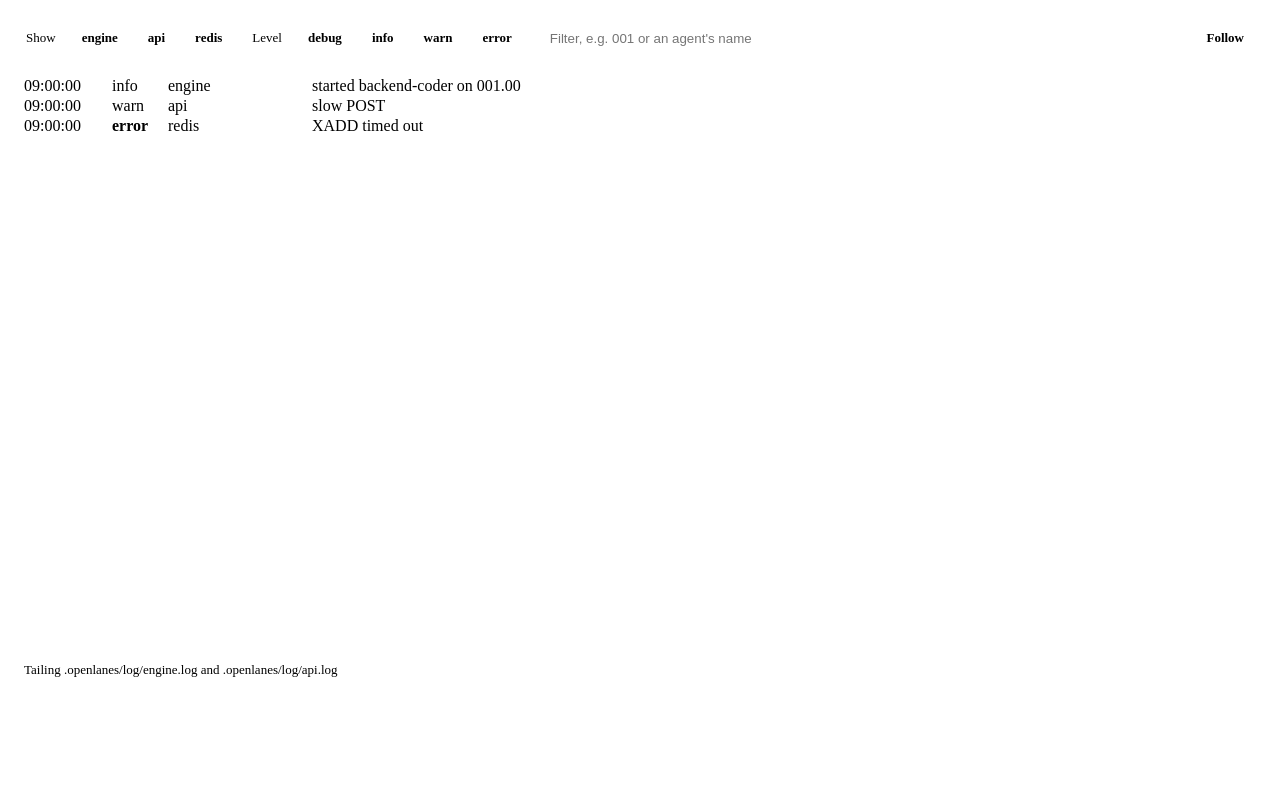
Test case: filters by source, level and text
The width and height of the screenshot is (1280, 800).
Click the button "api".
click(156, 38)  # box [136,20,177,56]
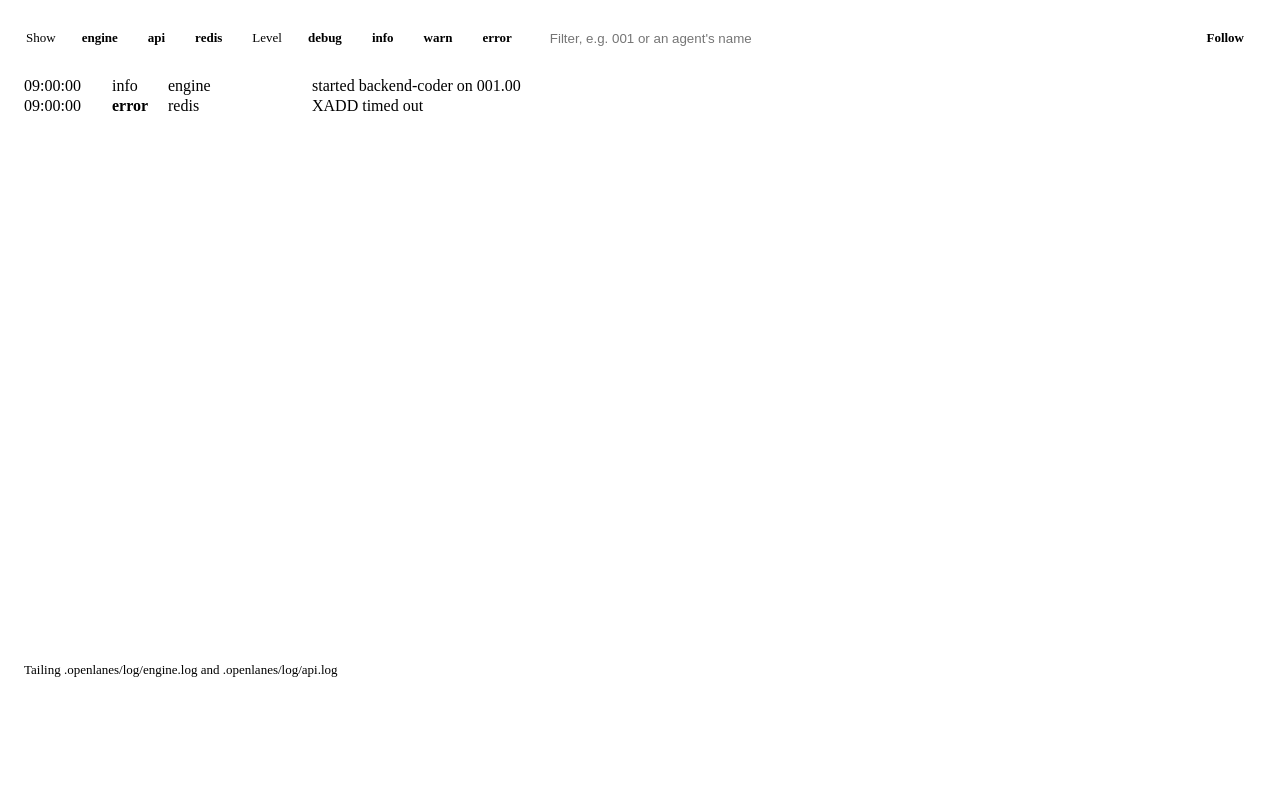
Click the button "debug".
click(325, 38)  # box [296,20,354,56]
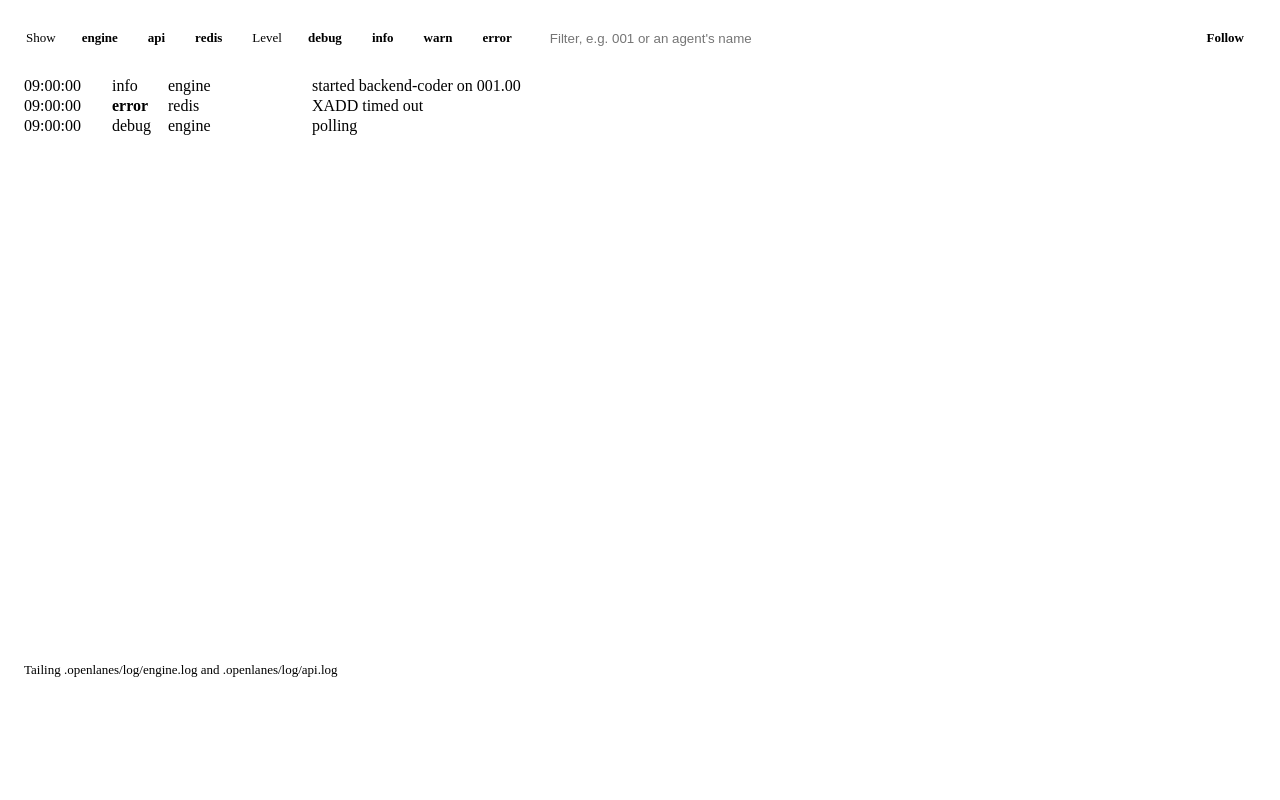
Expected: the text "slow POST" is not shown
Now the text "polling" is shown, box [312,117,357,134]
Click the button "api".
click(156, 38)  # box [136,20,177,56]
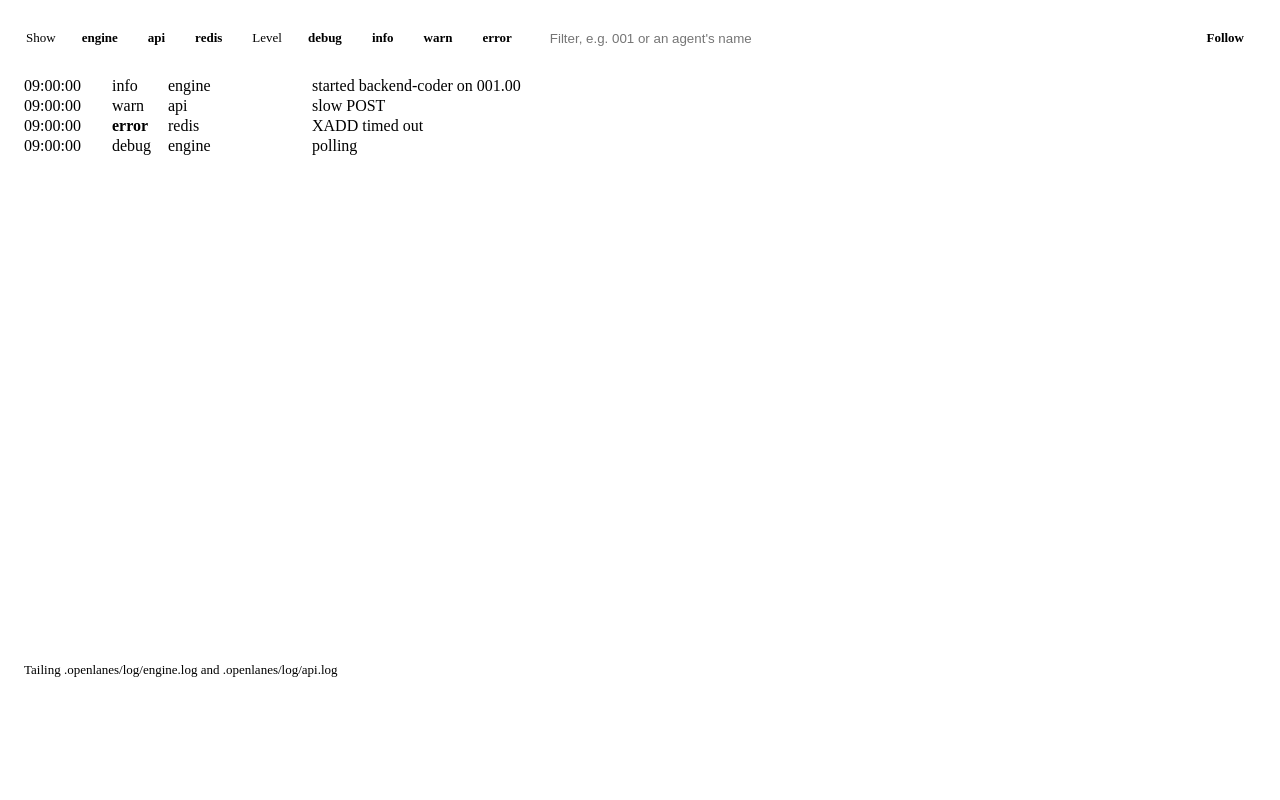
Type "BACKEND" into the search field named "Filter log lines".
click(700, 38); type("BACKEND")  # box [540,20,860,56]
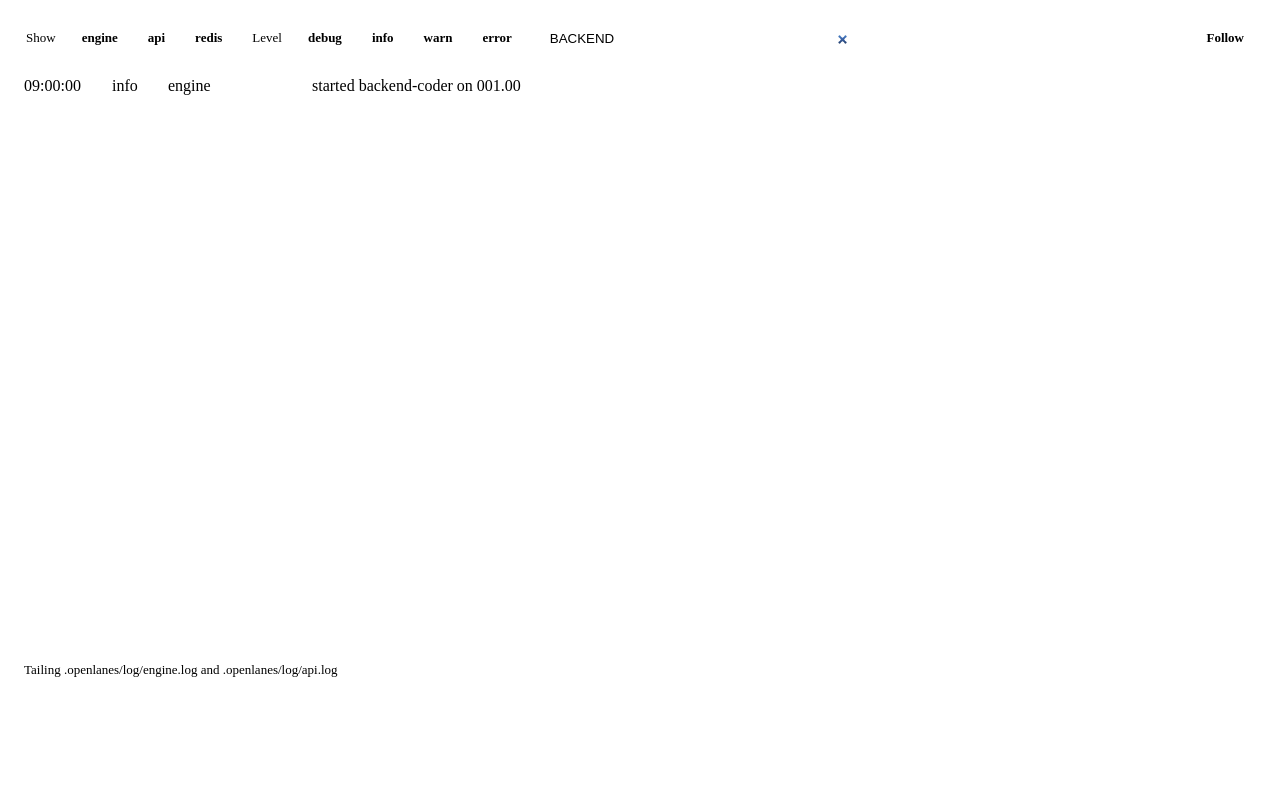
Expected: the number of list items is 1, [24,77,521,94]
Replace the text in the search field named "Filter log lines" with "nothing like this" at (700,38), box [540,20,860,56]
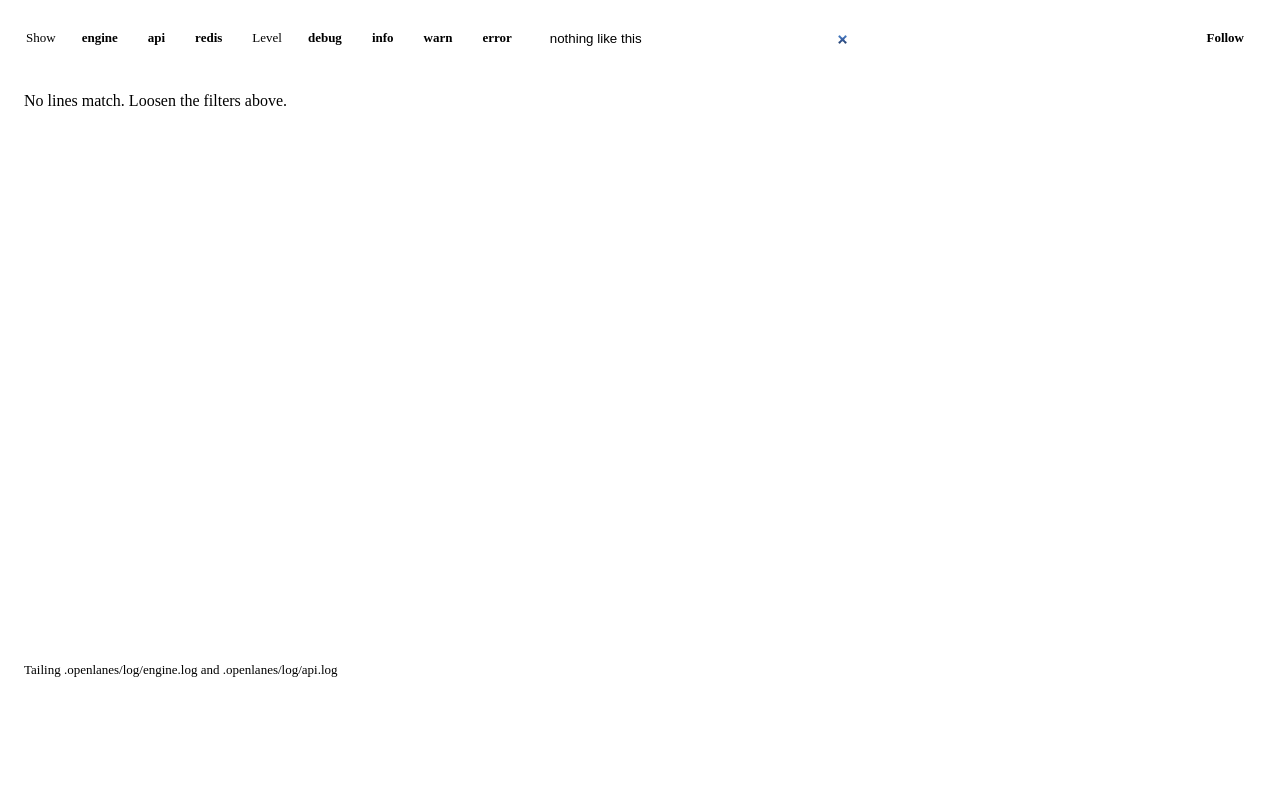
Now the list item "No lines match. Loosen the filters above." is shown, box [24,92,287,109]
